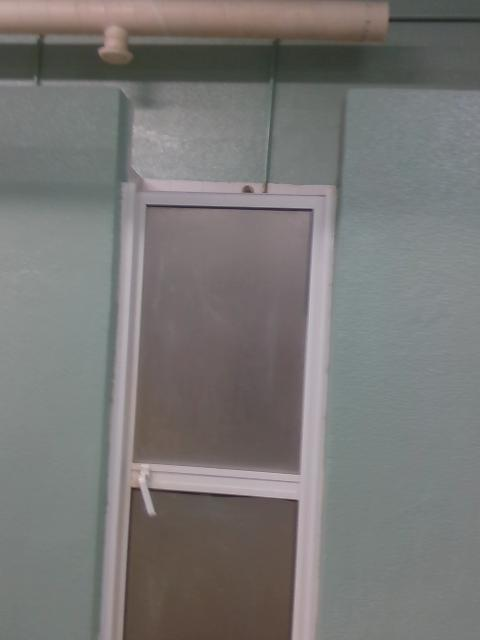door: (119, 191, 327, 639)
